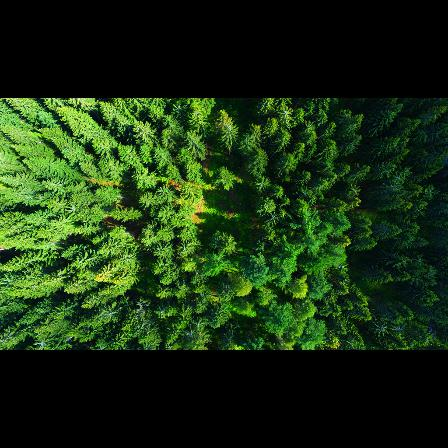Sick: (220, 119, 238, 137), (31, 337, 49, 350), (374, 324, 391, 337), (391, 172, 407, 185), (280, 107, 293, 121), (266, 214, 280, 226), (394, 326, 408, 336), (414, 255, 426, 266), (157, 308, 168, 320), (192, 319, 203, 329)
